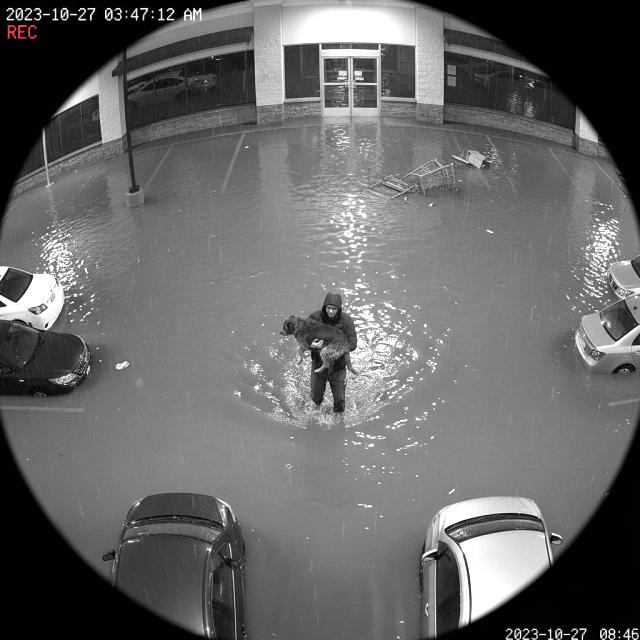civilian: (304, 286, 362, 418)
dog: (280, 316, 366, 382)
